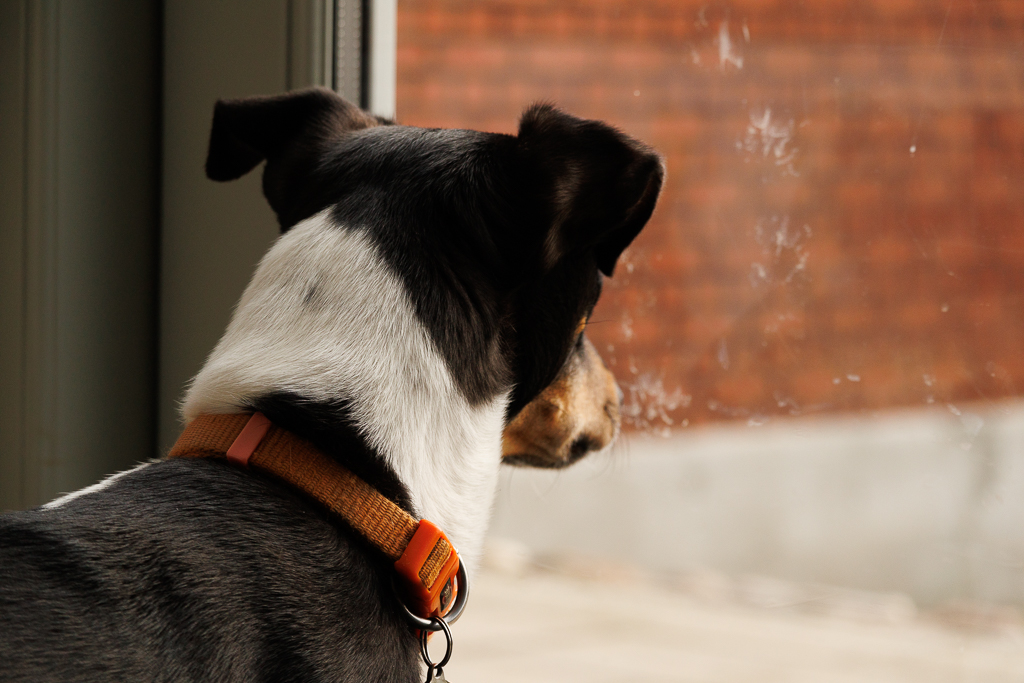Dog: (0, 77, 682, 683)
